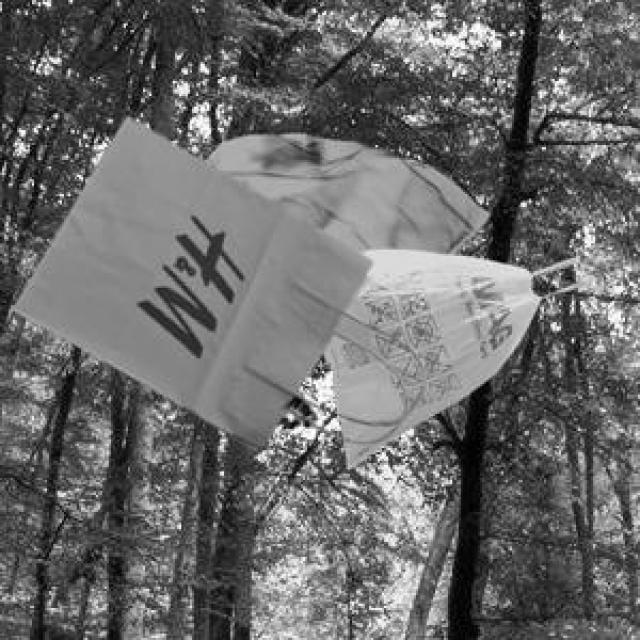paper: (9, 113, 410, 448)
